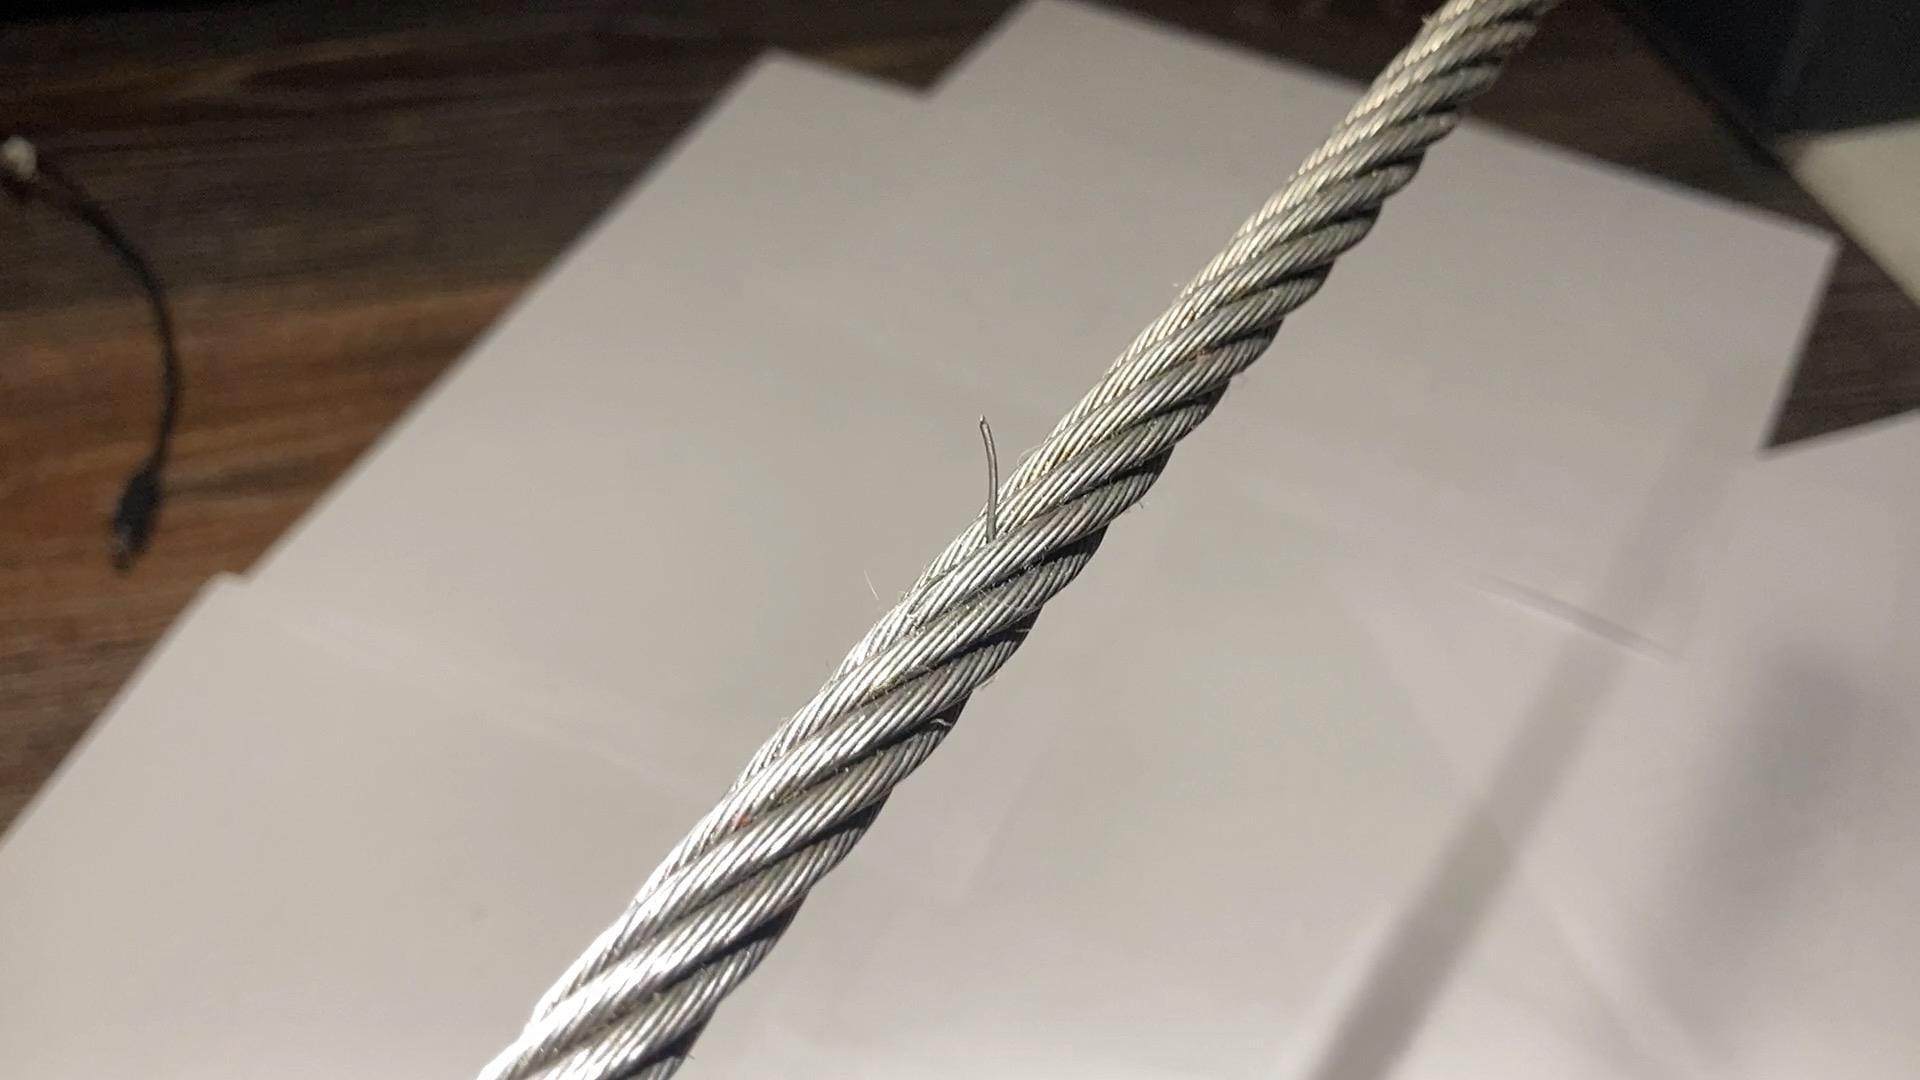break: (961, 397, 1043, 541)
